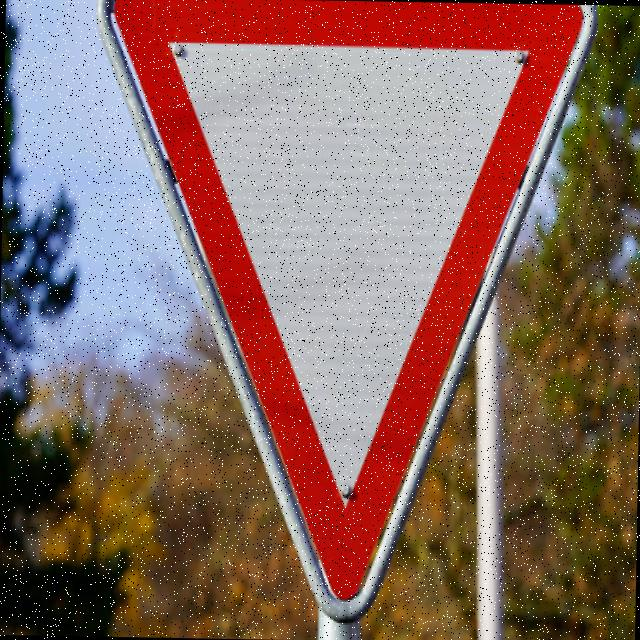give_way: (86, 0, 596, 613)
